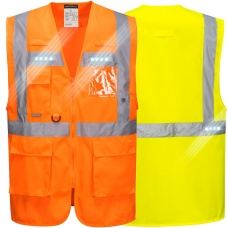safety vest: (6, 4, 138, 224), (124, 6, 225, 224)
